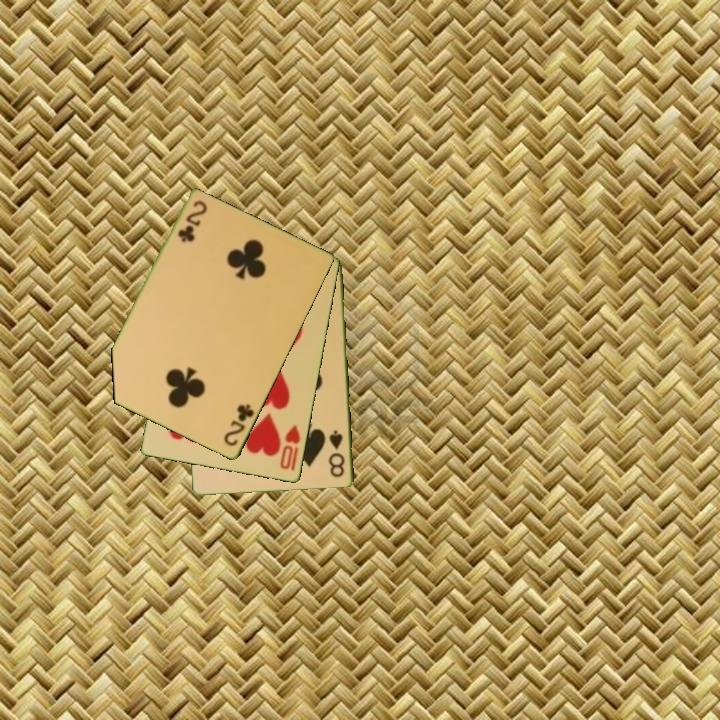10h: (277, 422, 303, 473)
2c: (221, 401, 257, 450), (174, 197, 209, 245)
8s: (326, 427, 348, 480)
